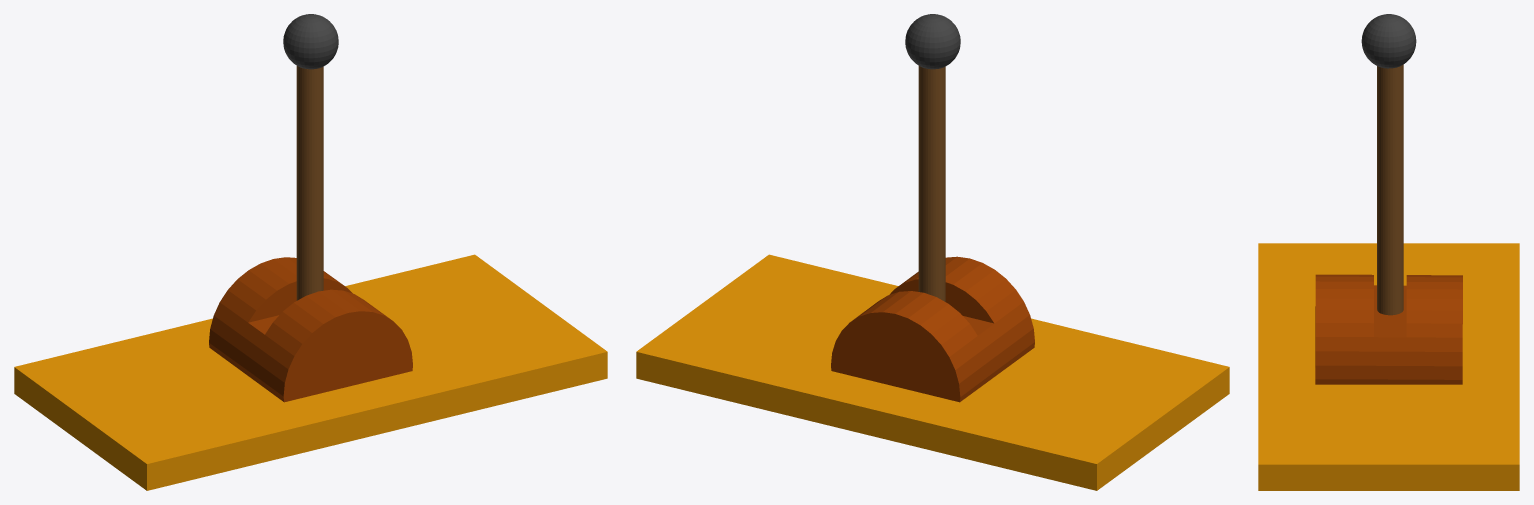
The model's file is Lever.fbx.
3 views of the same model, side by side, from view 1: azimuth 30°, elevation 25°; view 2: azimuth 150°, elevation 25°; view 3: azimuth 270°, elevation 25° (orthographic).
Parts seen in each view (by area): view 1: Base, Lever; view 2: Base, Lever; view 3: Base, Lever.
Part boxes in pixels (x1,y1,x2,y2): Base: (14, 254, 607, 490); Lever: (283, 14, 338, 300); Base: (636, 254, 1229, 490); Lever: (905, 14, 960, 301); Base: (1258, 243, 1519, 490); Lever: (1361, 14, 1416, 315).
Size of the model in its own units: 712 by 546 by 355.
